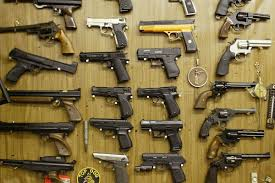Gun: (10, 8, 274, 182)
